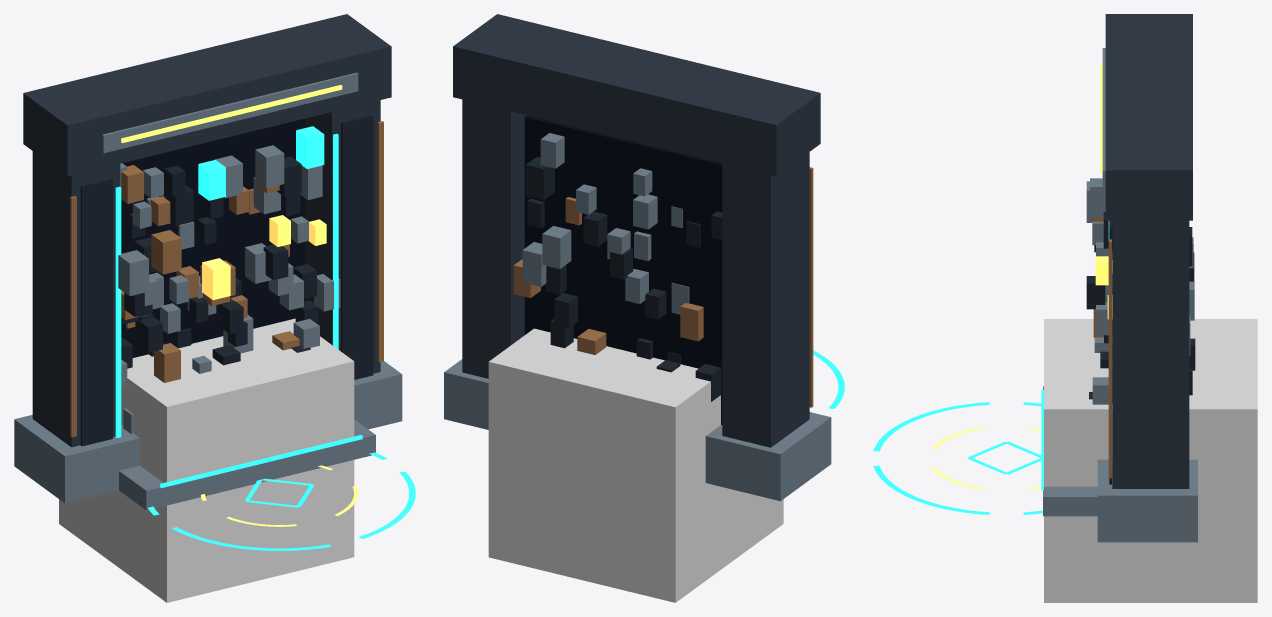
3 renders of one model, left to right at view 1: azimuth 30°, elevation 25°; view 2: azimuth 150°, elevation 25°; view 3: azimuth 270°, elevation 25°, orthographic.
Visible parts, largest first — view 1: Cube.001, Art_Lintel, Art_VoidBacking, Art_Pillar_L, Art_PillarInlay_L, Art_PillarInlay_R, Art_Plinth_L, Art_Pillar_R, Art_ThresholdSill, Art_LintelIron, Art_Plinth_R, Art_CopperRail_R (+33 smaller); view 2: Cube.001, Art_Lintel, Art_VoidBacking, Art_Pillar_L, Art_Pillar_R, Art_Plinth_L, Art_Plinth_R, Art_CopperRail_L, DoorFragment_R_39, DoorFragment_R_52, DoorFragment_R_34, DoorFragment_L_25 (+13 smaller); view 3: Cube.001, Art_Pillar_R, Art_Lintel, Art_Plinth_R, Art_ThresholdSill, Art_CopperRail_R, DoorFragment_R_56, Art_LintelIron, Art_GlyphArc_3, Art_GlyphArc_2, DoorFragment_R_38.
Part boxes in pixels (<box>): Cube.001: <box>59,318,354,602</box>; Art_Lintel: <box>23,14,391,176</box>; Art_VoidBacking: <box>121,118,304,357</box>; Art_Pillar_L: <box>32,151,120,447</box>; Art_PillarInlay_L: <box>80,178,112,446</box>; Art_PillarInlay_R: <box>341,115,373,379</box>; Art_Plinth_L: <box>14,415,139,503</box>; Art_Pillar_R: <box>305,100,380,373</box>; Art_ThresholdSill: <box>119,419,375,510</box>; Art_LintelIron: <box>102,72,358,153</box>; Art_Plinth_R: <box>354,361,402,429</box>; Art_CopperRail_R: <box>377,121,383,362</box>; Cube.001: <box>488,328,783,602</box>; Art_Lintel: <box>453,14,820,175</box>; Art_VoidBacking: <box>524,115,722,424</box>; Art_Pillar_L: <box>722,152,809,447</box>; Art_Pillar_R: <box>462,99,526,378</box>; Art_Plinth_L: <box>705,412,831,501</box>; Art_Plinth_R: <box>444,359,488,429</box>; Art_CopperRail_L: <box>809,167,813,407</box>; DoorFragment_R_39: <box>542,226,571,268</box>; DoorFragment_R_52: <box>525,157,554,200</box>; DoorFragment_R_34: <box>522,242,546,286</box>; DoorFragment_L_25: <box>680,303,703,341</box>; Cube.001: <box>1044,319,1257,602</box>; Art_Pillar_R: <box>1112,220,1189,488</box>; Art_Lintel: <box>1105,14,1192,220</box>; Art_Plinth_R: <box>1097,459,1197,542</box>; Art_ThresholdSill: <box>1043,386,1097,516</box>; Art_CopperRail_R: <box>1108,239,1111,478</box>; DoorFragment_R_56: <box>1090,178,1105,217</box>; Art_LintelIron: <box>1102,48,1105,188</box>; Art_GlyphArc_3: <box>873,465,989,514</box>; Art_GlyphArc_2: <box>873,402,989,451</box>; DoorFragment_R_38: <box>1086,276,1105,309</box>.
Bounding box in the file's own units: 3.6 × 4.81 × 3.6.
